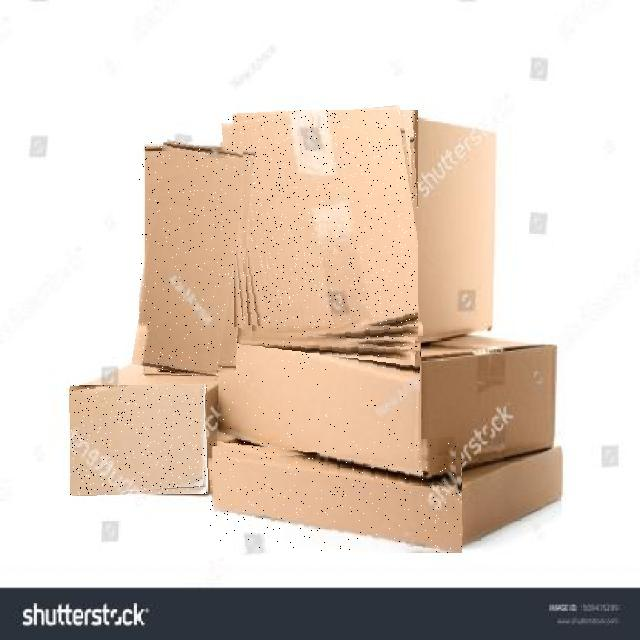BoxFace: (227, 110, 418, 350), (217, 328, 420, 477), (210, 442, 462, 553), (140, 142, 246, 376), (70, 385, 207, 495)
